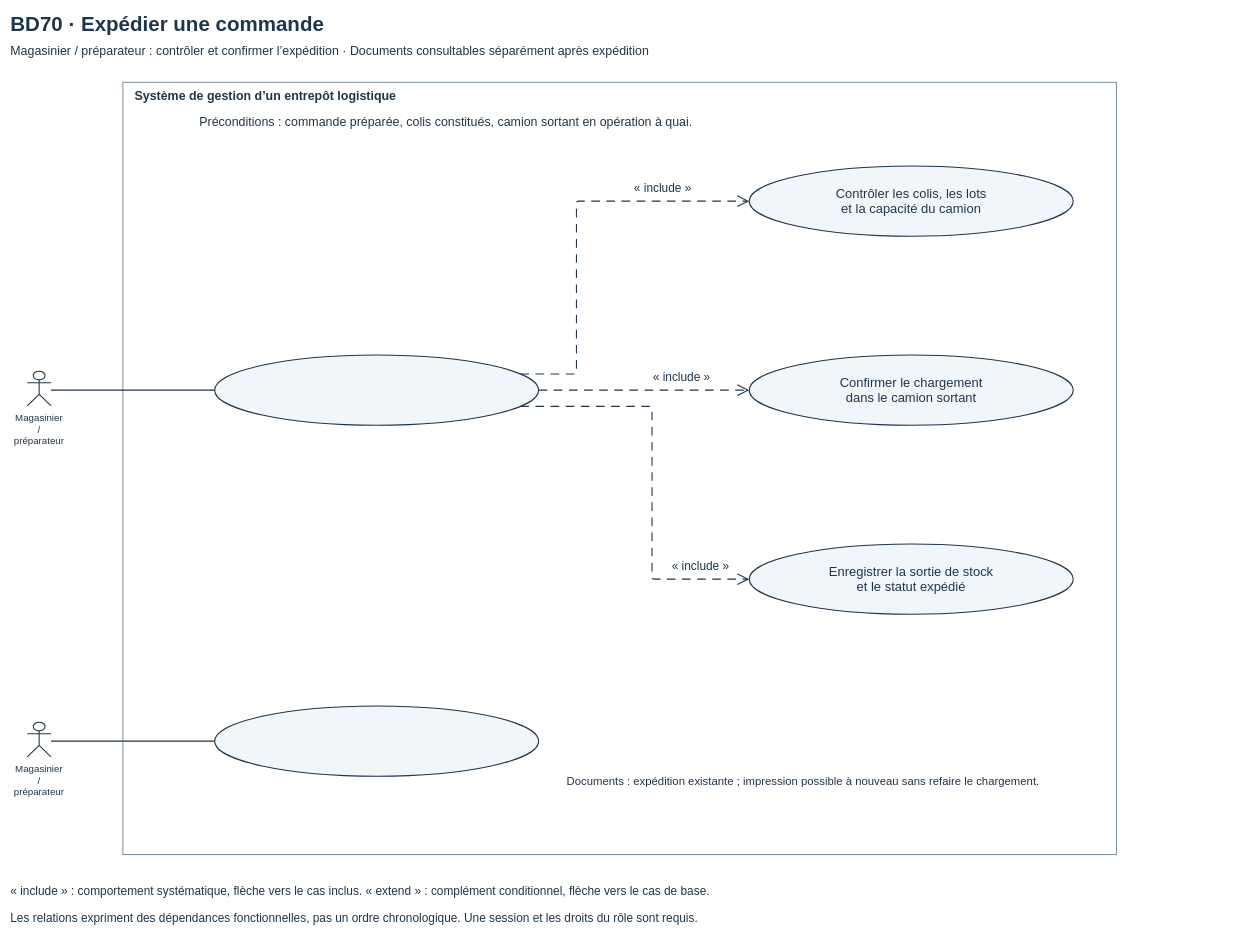
Some shapes in this 1239 by 936 pixel diagram are drawn without their labels. The shapes that lost their labels are listed below. From the top down, each one's centre as x and y in pixels, then its label:
At (x=376, y=390): "Expédier une commande".
At (x=376, y=741): "Éditer les documents de transport Bon de livraison / lettre de voiture".
